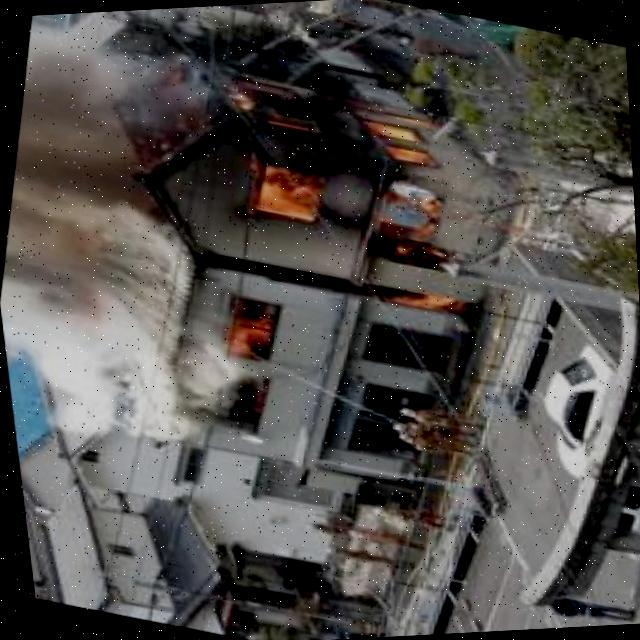fire: (167, 52, 502, 343), (195, 296, 288, 436)
